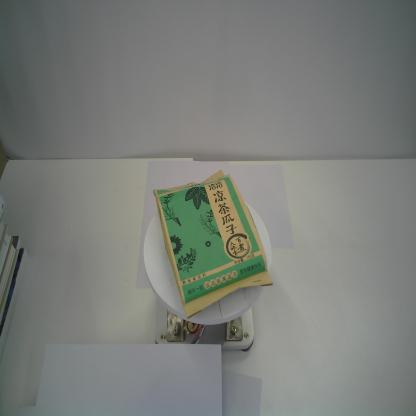Dried Food: (153, 169, 274, 320)
